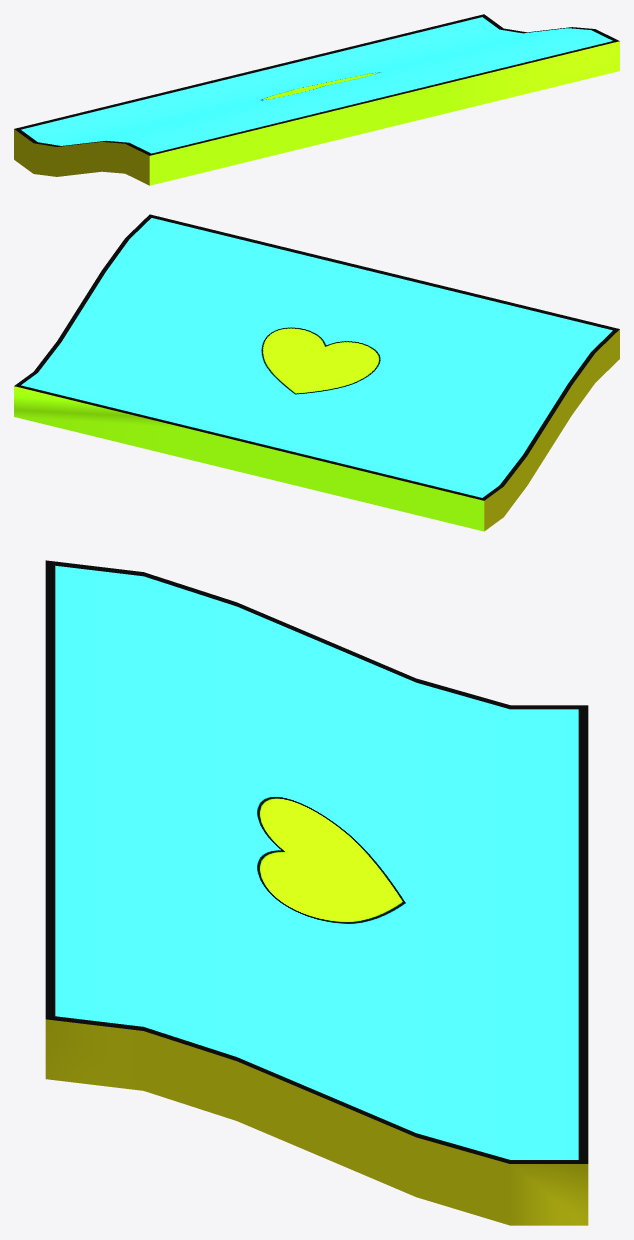
Rendered from cocobay_low_slope.gltf.
3 renders of one model, top to bottom at view 1: azimuth 30°, elevation 25°; view 2: azimuth 150°, elevation 25°; view 3: azimuth 270°, elevation 25°, orthographic. The views are drawn at different scales.
Visible parts, largest first — view 1: cocobay_low_slope_glb; view 2: cocobay_low_slope_glb; view 3: cocobay_low_slope_glb.
Boxes of the visible parts, bbox=[...] form: cocobay_low_slope_glb: bbox=[14, 14, 619, 185]; cocobay_low_slope_glb: bbox=[14, 214, 619, 531]; cocobay_low_slope_glb: bbox=[45, 560, 588, 1225].
Size of what is drawn, in the model's own units: 4 by 0.8385 by 2.
Materials: 2 (2 with a texture image).
